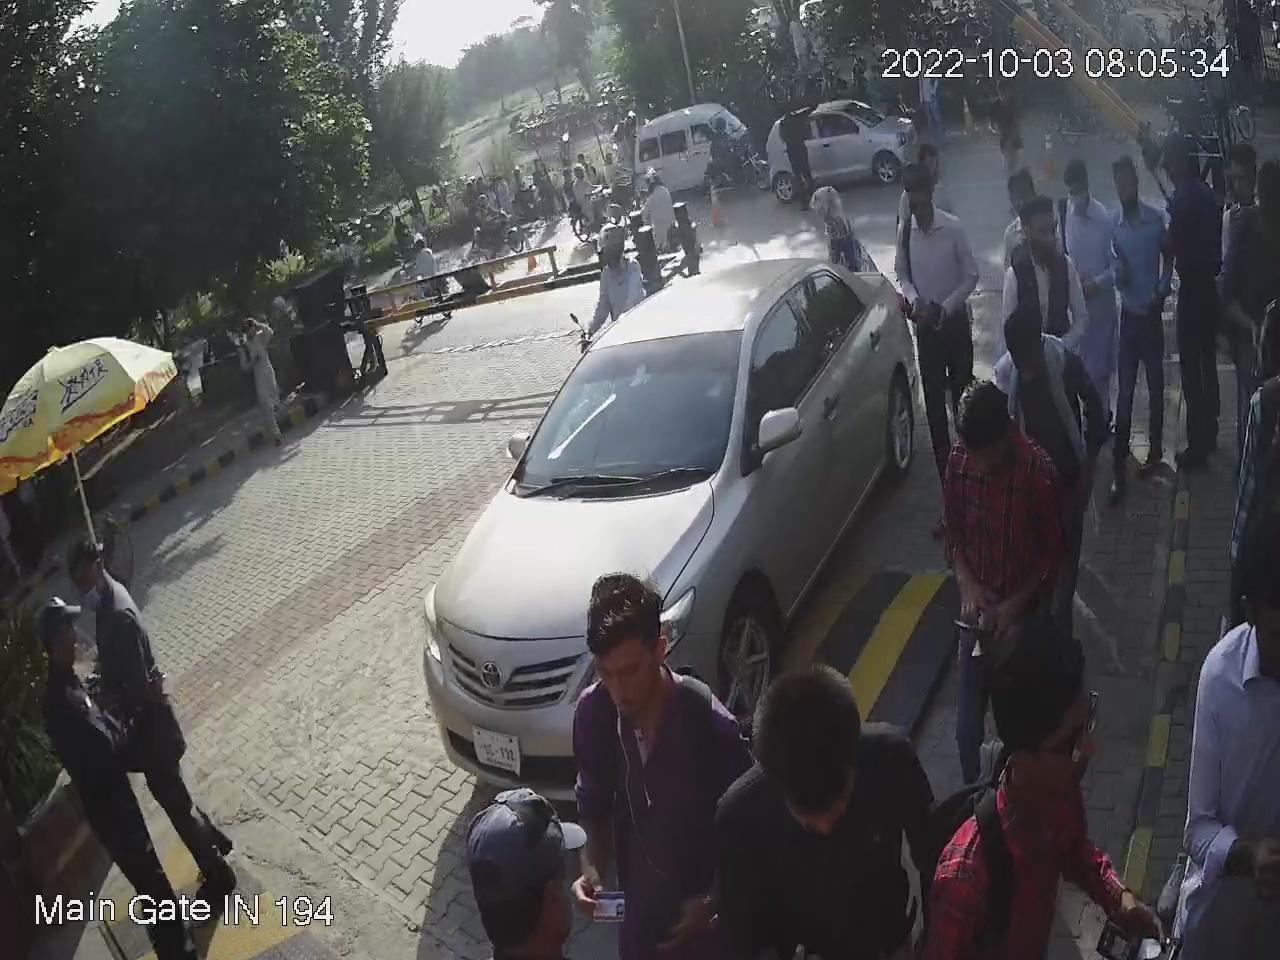windshield: (506, 323, 748, 492)
